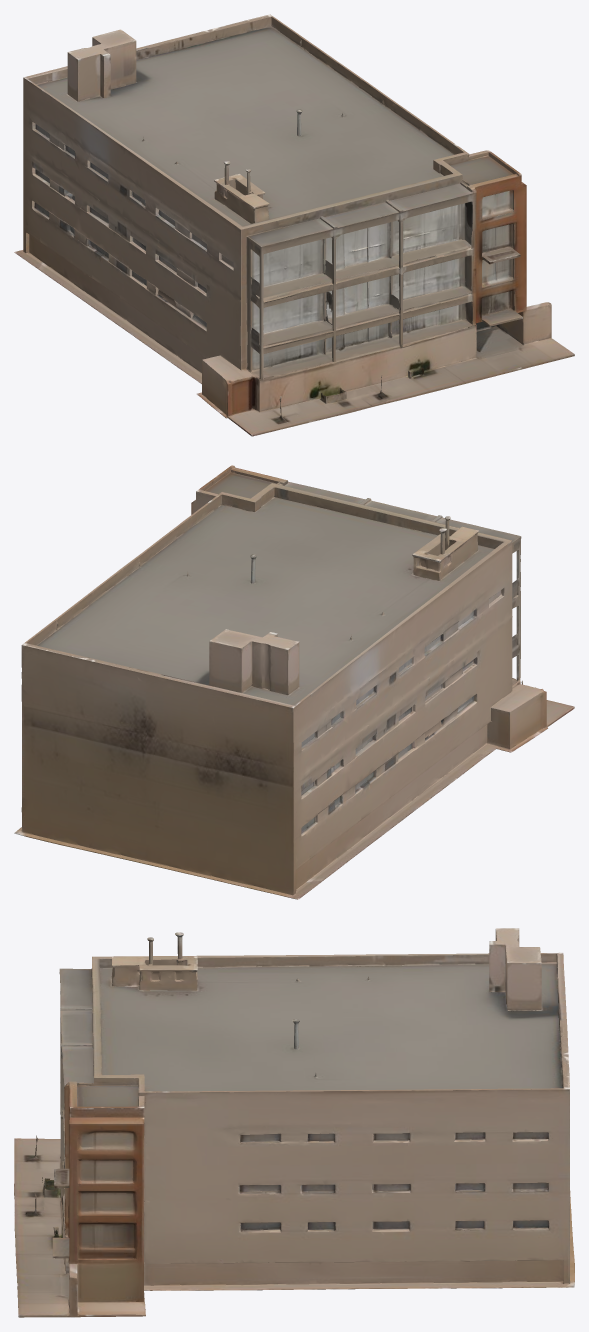
File: res_facade.glb
3 renders of one model, top to bottom at view 1: azimuth 30°, elevation 25°; view 2: azimuth 150°, elevation 25°; view 3: azimuth 270°, elevation 25°, orthographic. The views are drawn at different scales.
Parts seen in each view (by area): view 1: Object_3, Object_4, Object_2; view 2: Object_3, Object_4, Object_2; view 3: Object_3, Object_2, Object_4.
Boxes of the visible parts, x1,y1,x2,y2 form: Object_3: [14, 14, 574, 436]; Object_4: [17, 16, 550, 436]; Object_2: [15, 17, 514, 421]; Object_3: [14, 468, 565, 899]; Object_4: [14, 465, 574, 899]; Object_2: [32, 471, 545, 895]; Object_3: [14, 928, 574, 1317]; Object_2: [14, 934, 574, 1316]; Object_4: [14, 929, 574, 1315].
Size of the model in its own units: 22.48 by 13.84 by 30.
1 material, 1 textured.
